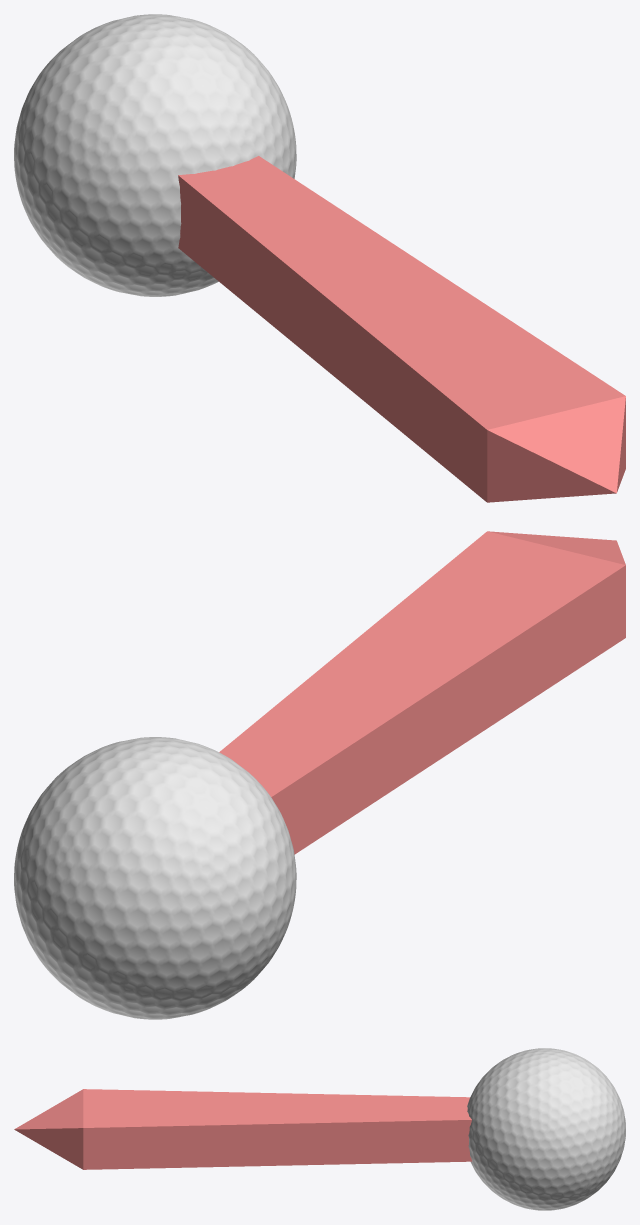
File: arrow.glb
3 renders of one model, top to bottom at view 1: azimuth 30°, elevation 25°; view 2: azimuth 150°, elevation 25°; view 3: azimuth 270°, elevation 25°, orthographic. The views are drawn at different scales.
Parts seen in each view (by area): view 1: Cube, Icosphere; view 2: Icosphere, Cube; view 3: Cube, Icosphere.
Boxes of the visible parts, <box> form: Cube: <box>178,156,625,502</box>; Icosphere: <box>14,14,296,296</box>; Icosphere: <box>14,737,296,1019</box>; Cube: <box>219,531,625,854</box>; Cube: <box>14,1089,472,1169</box>; Icosphere: <box>467,1048,625,1210</box>.
Size of the model in its own units: 0.0702 by 0.0705 by 0.2651.
